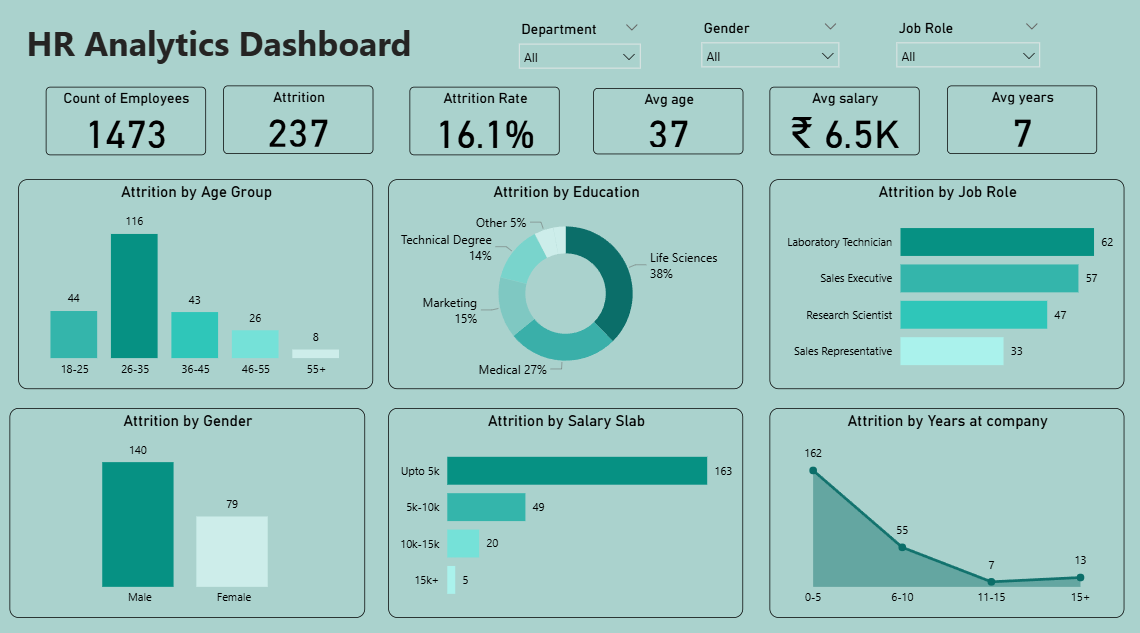

This screenshot's page, from the dashboard's own definition file:
{"tool":"powerbi","page":{"name":"Page 1","canvas":[1280,720],"ordinal":0},"visuals":[{"type":"card","title":"Count of Employees ","fields":{"Values":["CountNonNull(HR_Analytics.EmpID)"]},"box":[53.5,102.9,175.6,75.5],"z":0},{"type":"card","title":"Attrition","fields":{"Values":["Sum(HR_Analytics.Attritioncount)"]},"box":[248.4,101.5,164.7,75.5],"z":1000},{"type":"card","title":"Attrition Rate ","fields":{"Values":["HR_Analytics.AttritionRate"]},"box":[452.8,102.9,165,75.5],"z":2000},{"type":"card","title":"Avg age","fields":{"Values":["Avg(HR_Analytics.Age)"]},"box":[654.5,104.3,165,72.7],"z":3000},{"type":"card","title":"Avg salary","fields":{"Values":["Avg(HR_Analytics.MonthlyIncome)"]},"box":[848,102.9,164.7,75.5],"z":4000},{"type":"card","title":"Avg years ","fields":{"Values":["Avg(HR_Analytics.YearsAtCompany)"]},"box":[1042.9,101.5,164.7,75.5],"z":5000},{"type":"donutChart","title":"Attrition by Education","fields":{"Category":["HR_Analytics.EducationField"],"Y":["Sum(HR_Analytics.Attritioncount)"]},"box":[429.5,204.5,389.7,230.5],"z":6000},{"type":"barChart","title":"Attrition by Salary Slab","fields":{"Category":["HR_Analytics.SalarySlab"],"Y":["Sum(HR_Analytics.Attritioncount)"]},"box":[429.5,455.6,389.7,230.5],"z":8000},{"type":"barChart","title":"Attrition by Job Role","fields":{"Category":["HR_Analytics.JobRole"],"Y":["Sum(HR_Analytics.Attritioncount)"]},"box":[848,204.5,389.7,230.5],"z":9000},{"type":"areaChart","title":"Attrition by Years at company","fields":{"Y":["Sum(HR_Analytics.Attritioncount)"],"Category":["HR_Analytics.Years Group"]},"box":[848,455.6,389.7,230.5],"z":10000},{"type":"columnChart","title":"Attrition by Gender ","fields":{"Category":["HR_Analytics.Gender"],"Y":["Sum(HR_Analytics.Attritioncount)"]},"box":[13.7,455.6,390,230.5],"z":11000},{"type":"slicer","fields":{"Values":["HR_Analytics.Department"]},"box":[562.6,26.1,153.7,61.7],"z":12000},{"type":"textbox","box":[27.4,24.7,470.7,61.7],"z":13000},{"type":"columnChart","title":"Attrition by Age Group","fields":{"Category":["HR_Analytics.AgeGroup"],"Y":["Sum(HR_Analytics.Attritioncount)"]},"box":[23.3,204.5,389.7,230.5],"z":14000},{"type":"slicer","fields":{"Values":["HR_Analytics.Gender"]},"box":[763,24.7,171.5,61.7],"z":15000},{"type":"slicer","fields":{"Values":["HR_Analytics.JobRole"]},"box":[977,24.7,178.4,75.5],"z":16000}]}

Visuals, with their boxes in screenshot pixels (x1, y1, x2, y2), scaled from the page's 1280x720 canvas onto the 1140x633 screenshot:
"Count of Employees " card: BBox(48, 90, 204, 157)
"Attrition" card: BBox(221, 89, 368, 156)
"Attrition Rate " card: BBox(403, 90, 550, 157)
"Avg age" card: BBox(583, 92, 730, 156)
"Avg salary" card: BBox(755, 90, 902, 157)
"Avg years " card: BBox(929, 89, 1076, 156)
"Attrition by Education" donutChart: BBox(383, 180, 730, 382)
"Attrition by Salary Slab" barChart: BBox(383, 401, 730, 603)
"Attrition by Job Role" barChart: BBox(755, 180, 1102, 382)
"Attrition by Years at company" areaChart: BBox(755, 401, 1102, 603)
"Attrition by Gender " columnChart: BBox(12, 401, 360, 603)
slicer - HR_Analytics.Department: BBox(501, 23, 638, 77)
textbox: BBox(24, 22, 444, 76)
"Attrition by Age Group" columnChart: BBox(21, 180, 368, 382)
slicer - HR_Analytics.Gender: BBox(680, 22, 832, 76)
slicer - HR_Analytics.JobRole: BBox(870, 22, 1029, 88)
